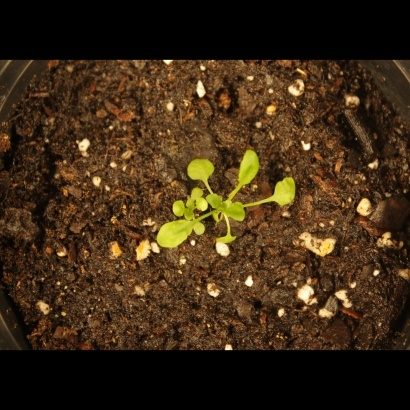leaf: (151, 216, 197, 250), (179, 155, 219, 186), (267, 175, 301, 211), (235, 146, 266, 185), (215, 228, 241, 254), (195, 221, 218, 244), (161, 195, 184, 218), (224, 204, 247, 227), (207, 186, 230, 209), (187, 197, 210, 220), (185, 177, 208, 200)
